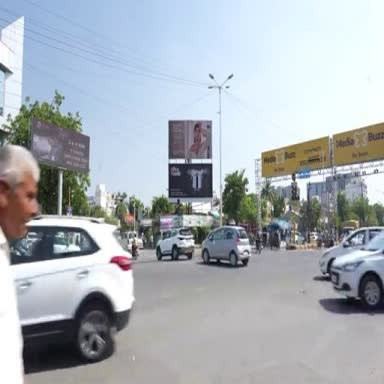Car: (10, 216, 134, 362), (331, 233, 383, 309), (319, 226, 383, 274), (202, 226, 250, 266), (156, 227, 194, 260), (123, 232, 143, 251), (310, 232, 317, 243)
